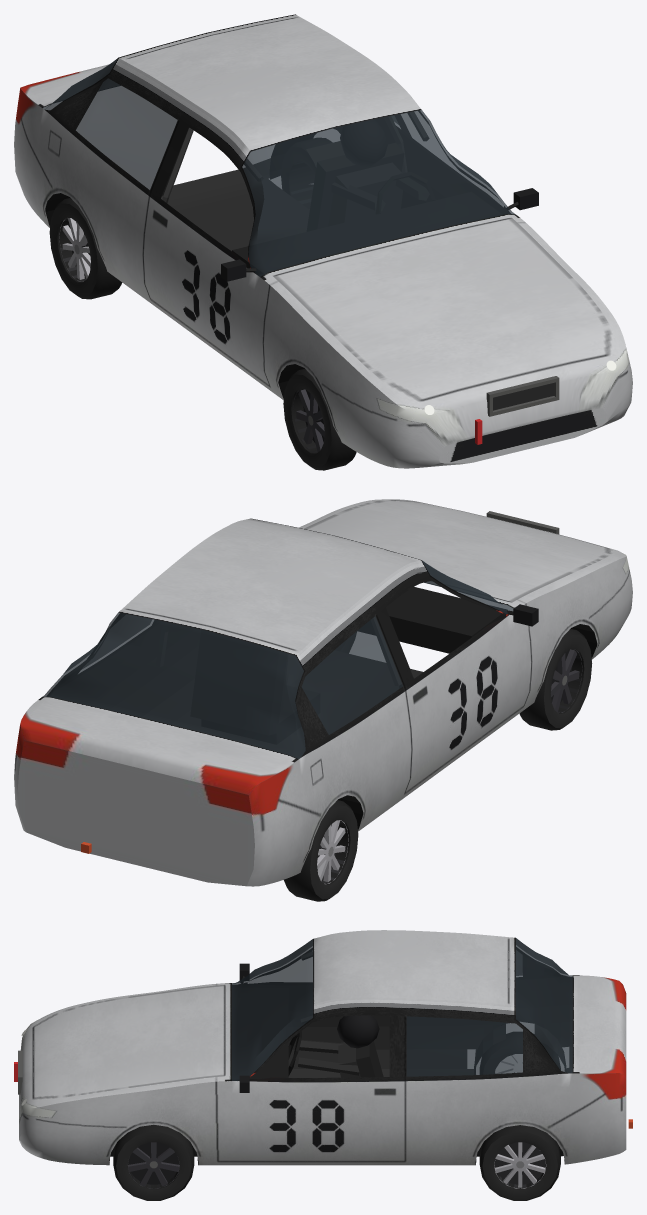
3 views of the same model, one above another, from view 1: azimuth 30°, elevation 25°; view 2: azimuth 150°, elevation 25°; view 3: azimuth 270°, elevation 25° (orthographic). The views are drawn at different scales.
Parts seen in each view (by area): view 1: body, wheel_fr, wheel_rr, wheel_rl; view 2: body, wheel_rr, wheel_fr; view 3: body, wheel_fl, wheel_rl, wheel_rr.
Boxes of the visible parts, <box> form: body: <box>14,14,632,468</box>; wheel_fr: <box>283,369,356,470</box>; wheel_rr: <box>49,198,122,299</box>; wheel_rl: <box>281,138,331,209</box>; body: <box>14,499,632,886</box>; wheel_rr: <box>284,800,358,901</box>; wheel_fr: <box>519,628,592,730</box>; body: <box>14,930,632,1165</box>; wheel_fl: <box>113,1124,194,1200</box>; wheel_rl: <box>479,1125,560,1200</box>; wheel_rr: <box>480,1032,560,1074</box>.
Bounding box in the file's own units: 1.99 × 1.49 × 4.36.
2 materials, 1 textured.
